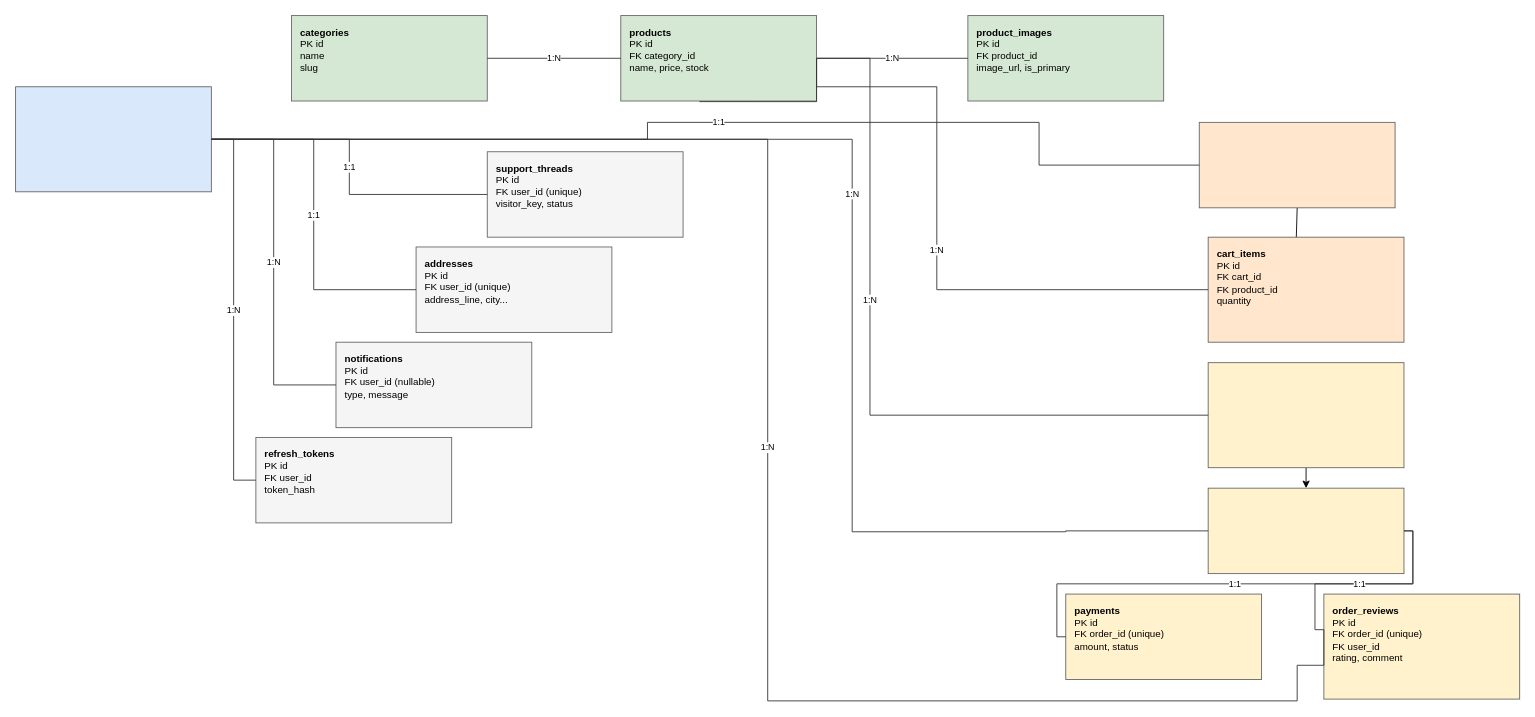
Image size: 1535x717. Some labels were removed from this diagram. The box of each missing label's shape, as (x1, y1, x2, y2) in pixels:
carts PK id FK user_id (unique) created_at: (1198, 121, 1395, 208)
order_items PK id FK order_id FK product_id price, quantity: (1207, 362, 1404, 468)
orders PK id FK user_id total_amount, status: (1207, 487, 1404, 574)
users PK id email password_hash role: (15, 86, 211, 192)
